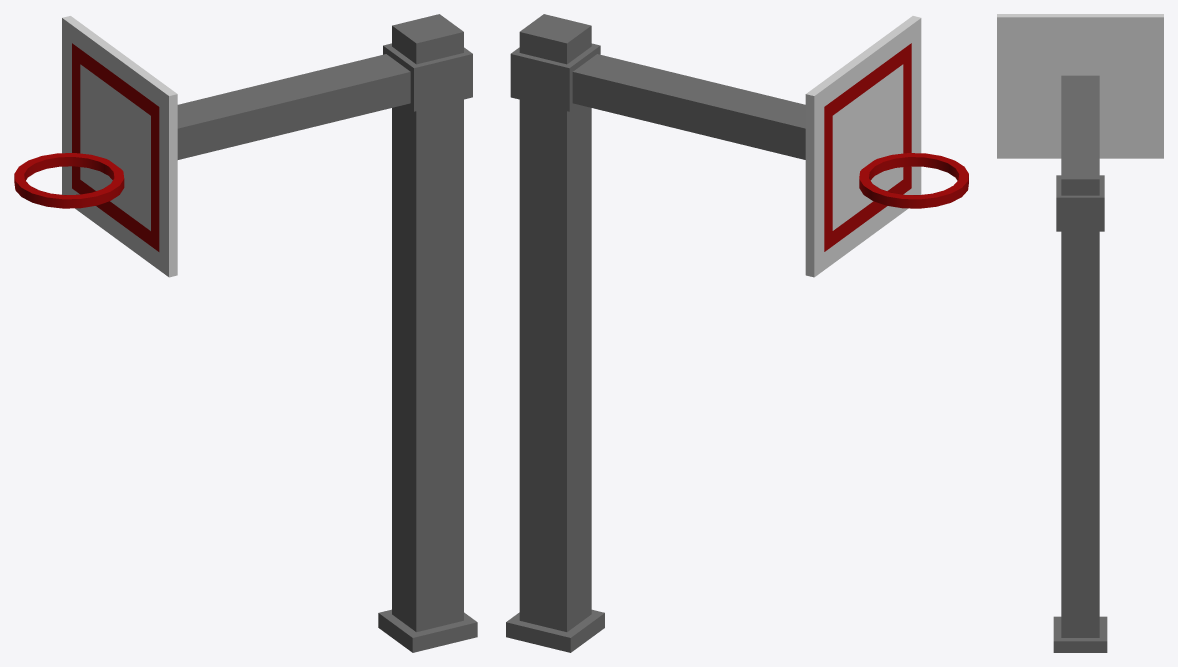
File: basketball hoop.fbx
3 renders of one model, left to right at view 1: azimuth 30°, elevation 25°; view 2: azimuth 150°, elevation 25°; view 3: azimuth 270°, elevation 25°, orthographic. The views are drawn at different scales.
Parts seen in each view (by area): view 1: pCube1, pCylinder1; view 2: pCube1, pCylinder1; view 3: pCube1.
Part boxes in pixels (x1,y1,x2,y2): pCube1: (62,14,477,652); pCylinder1: (14,153,124,208); pCube1: (506,14,921,652); pCylinder1: (859,153,968,208); pCube1: (997,14,1163,652).
Size of the model in its own units: 15.33 by 21.75 by 6.48.
